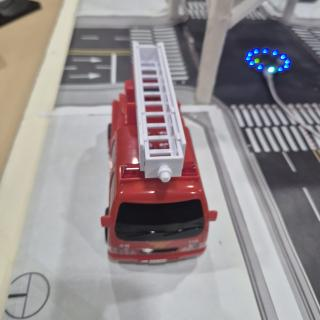Fire_truck: (101, 42, 217, 263)
